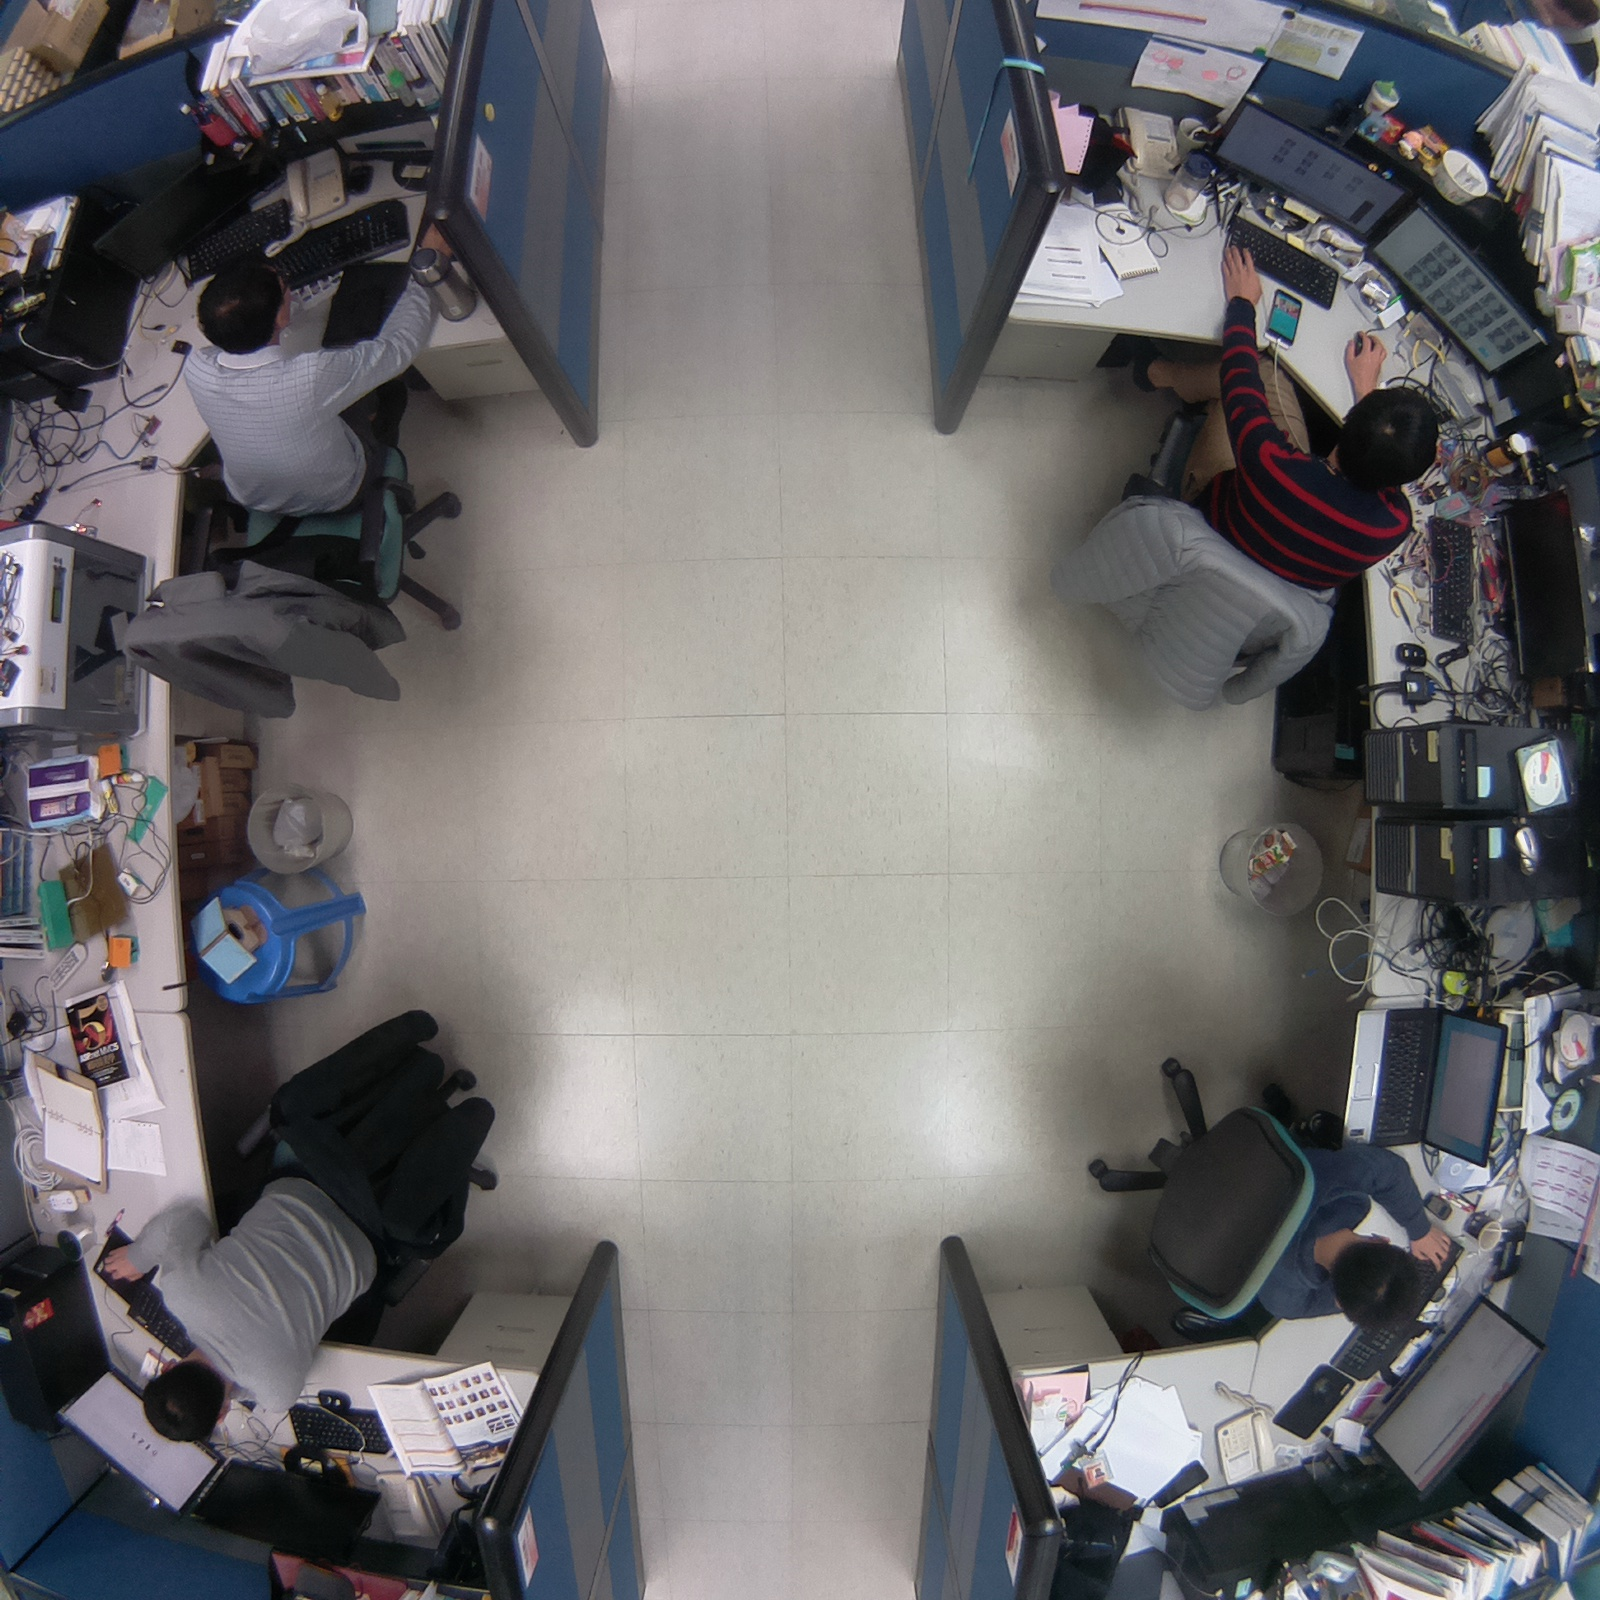head: (1319, 1227, 1440, 1346), (1329, 376, 1449, 495), (191, 257, 308, 361), (138, 1355, 234, 1453)
sitting: (96, 988, 514, 1446), (106, 251, 486, 737), (1040, 303, 1448, 727), (1076, 1045, 1459, 1337)
